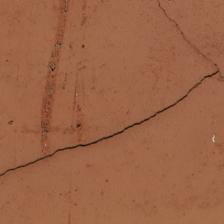Crack: (161, 29, 224, 105), (65, 92, 154, 132)
